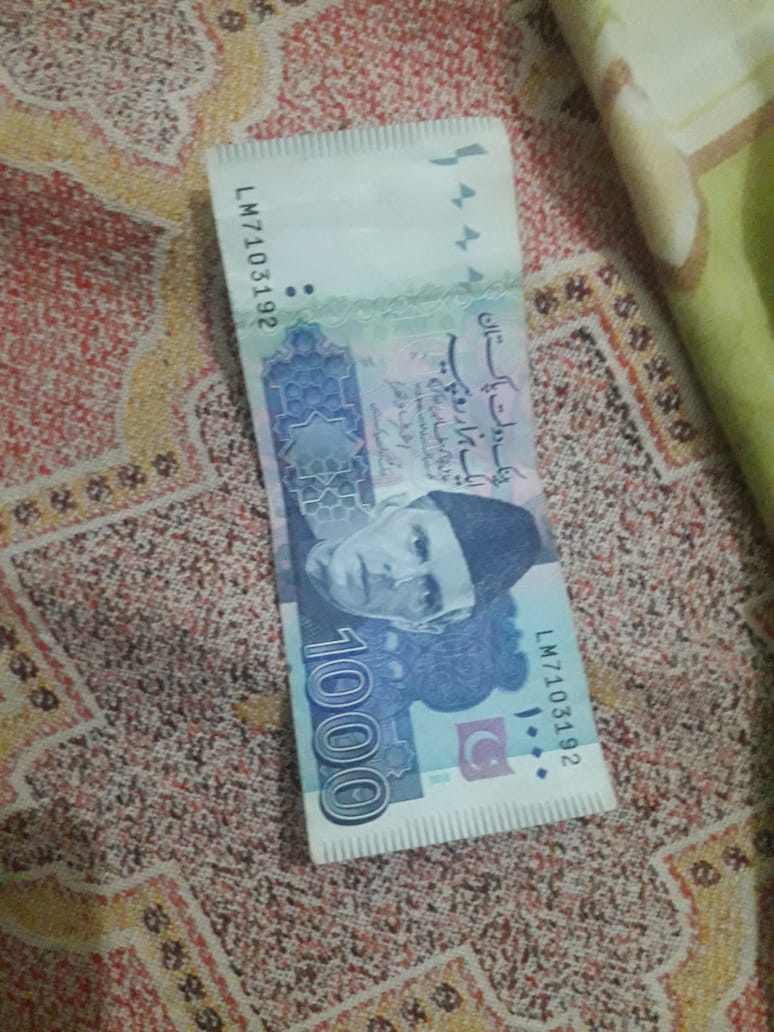1000 rupee: (189, 92, 629, 878)
